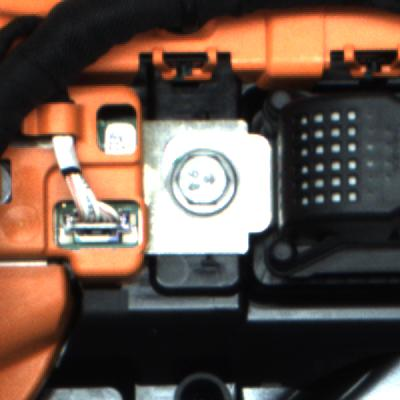nut_b: (175, 148, 243, 212)
